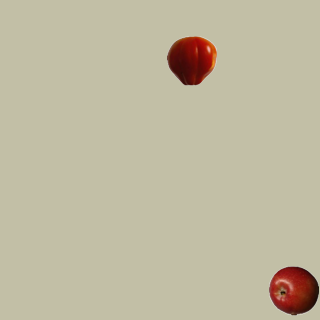Apple Braeburn: (268, 265, 318, 315)
Tomato 1: (166, 35, 216, 85)
